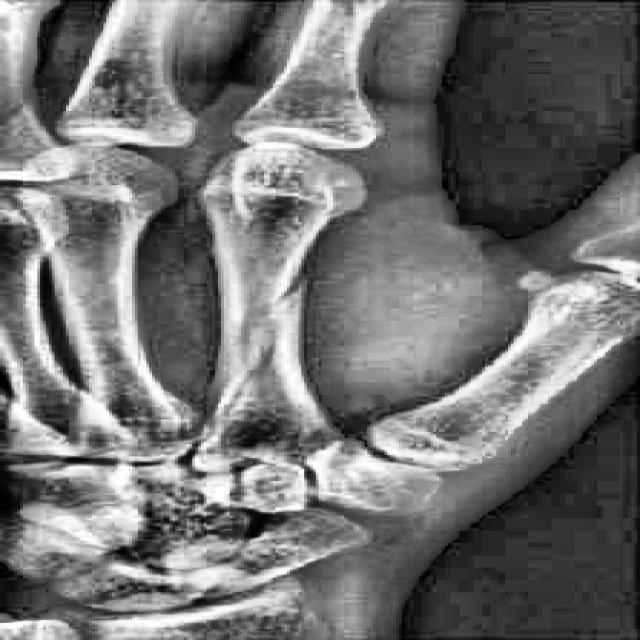fracture: (192, 274, 310, 452)
